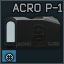Aimpoint ACRO P-1 reflex sight: (0, 0, 64, 64)
